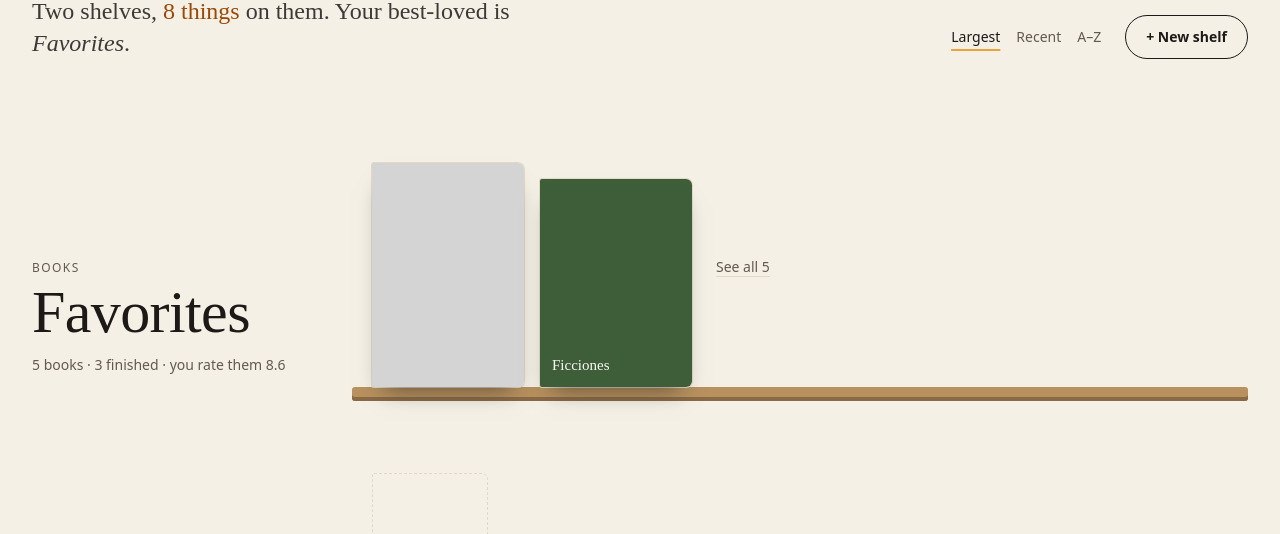
Test: ShelvesPage › creates a shelf from a button, not a standing field
Expected: the link "Favorites" is shown, [32, 279, 250, 345]
Step 1. Click the button "+ New shelf" → (1187, 37), box [1125, 15, 1248, 59]
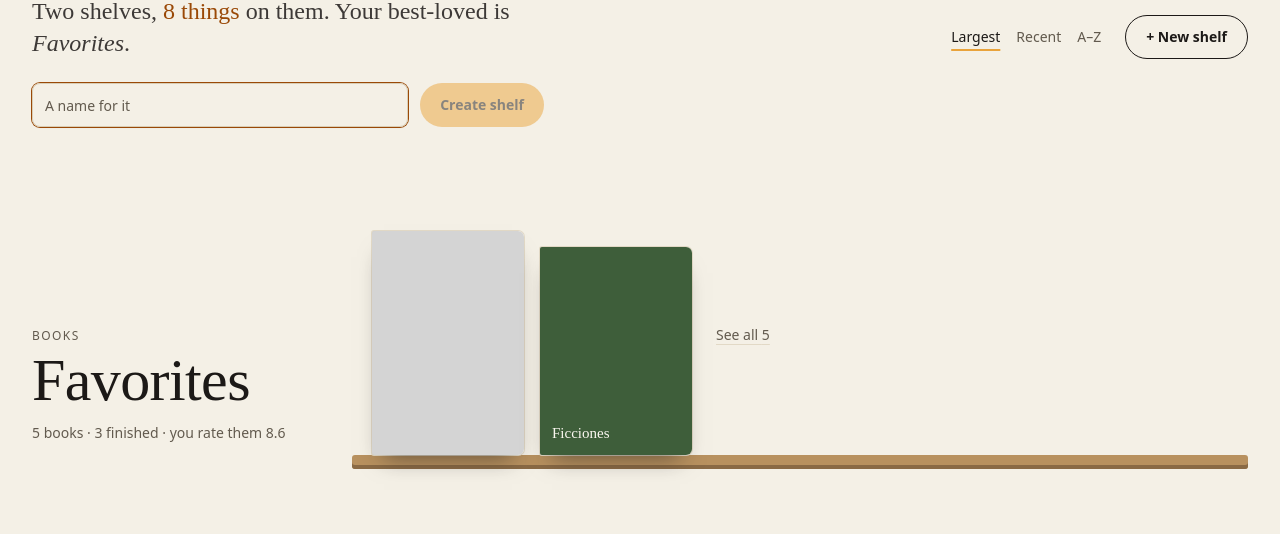
Step 2. Type "New" into the field named "New shelf name" → (220, 105), box [32, 83, 408, 127]
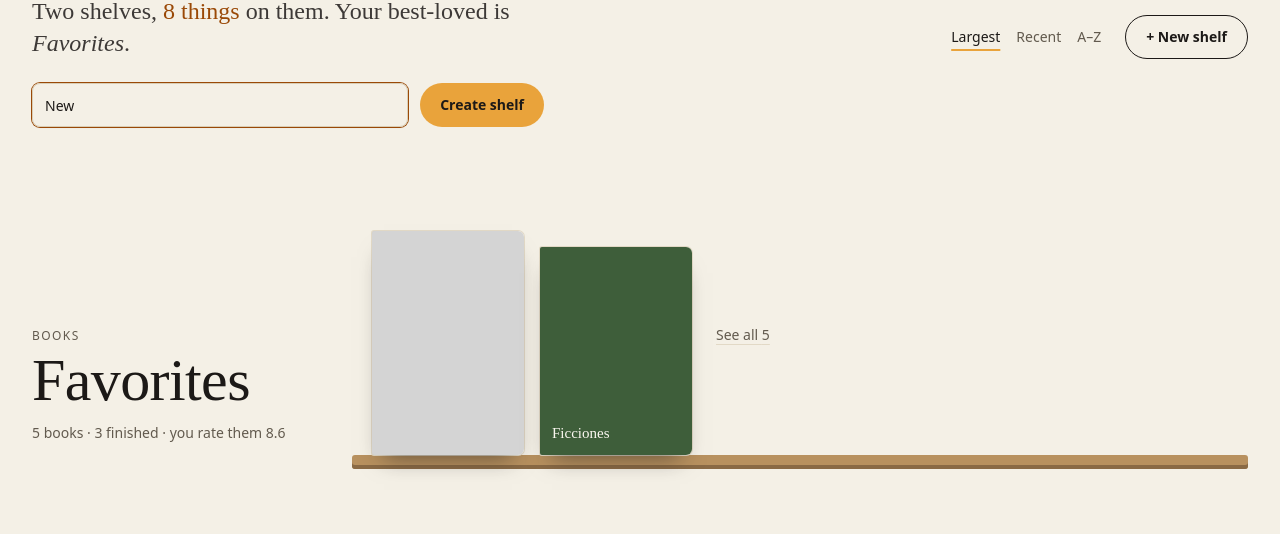
Step 3. Click the button "Create shelf" → (482, 105), box [420, 83, 544, 127]
(page scrolled)
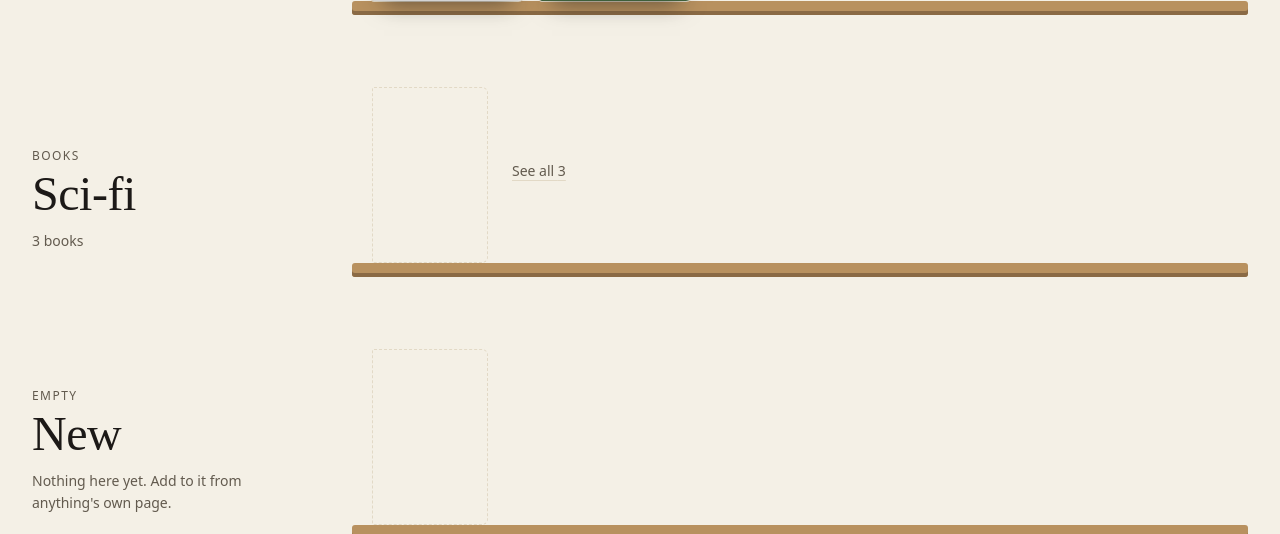
Expected: the link "New" is shown, [32, 406, 121, 460]
